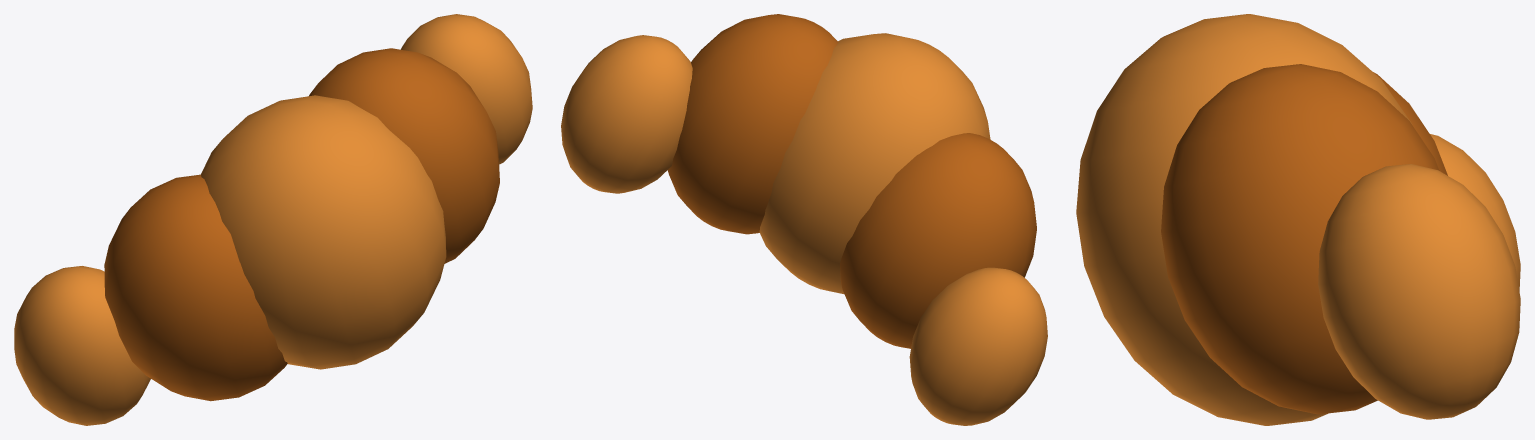
File: croissant.glb
3 views of the same model, side by side, from view 1: azimuth 30°, elevation 25°; view 2: azimuth 150°, elevation 25°; view 3: azimuth 270°, elevation 25° (orthographic). The views are drawn at different scales.
Parts seen in each view (by area): view 1: C_Seg_2, C_Seg_1, C_Seg_3, C_Seg_0, C_Seg_4; view 2: C_Seg_2, C_Seg_1, C_Seg_3, C_Seg_0, C_Seg_4; view 3: C_Seg_3, C_Seg_2, C_Seg_4, C_Seg_0, C_Seg_1.
Boxes of the visible parts, x1,y1,x2,y2 form: C_Seg_2: [200, 95, 446, 369]; C_Seg_1: [104, 174, 287, 401]; C_Seg_3: [309, 48, 499, 263]; C_Seg_0: [14, 266, 150, 425]; C_Seg_4: [401, 14, 532, 164]; C_Seg_2: [759, 33, 990, 293]; C_Seg_1: [840, 133, 1036, 348]; C_Seg_3: [667, 14, 837, 234]; C_Seg_0: [909, 267, 1047, 425]; C_Seg_4: [561, 35, 692, 193]; C_Seg_3: [1161, 64, 1439, 414]; C_Seg_2: [1076, 14, 1412, 425]; C_Seg_4: [1318, 164, 1520, 419]; C_Seg_0: [1430, 134, 1520, 291]; C_Seg_1: [1373, 72, 1447, 175].
Size of the model in its own units: 0.3469 by 0.2202 by 0.188.
